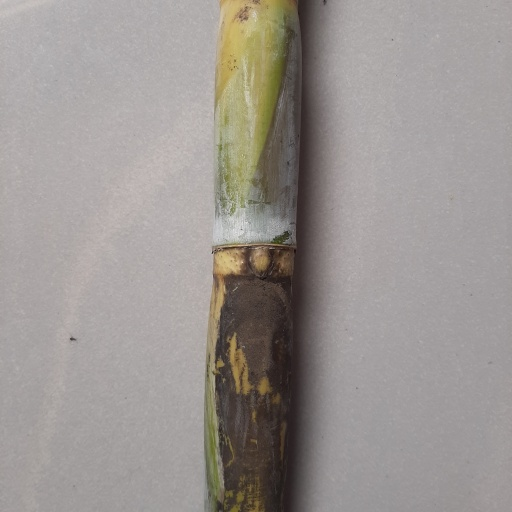Bud: (246, 246, 277, 279)
